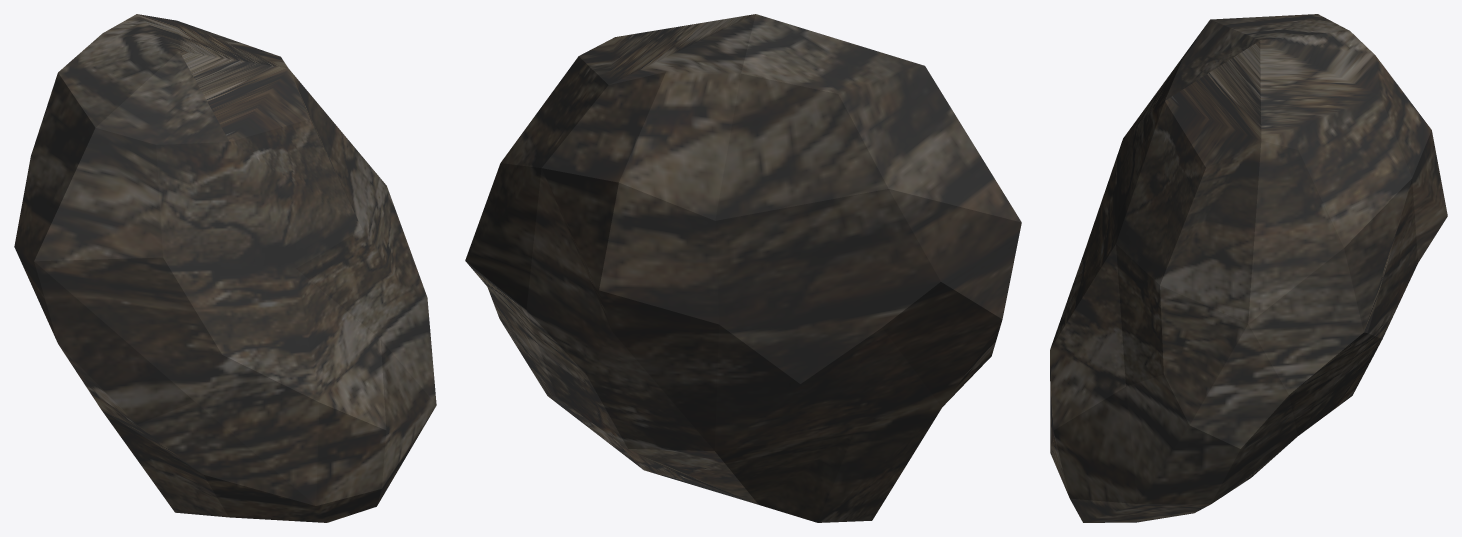
The picture shows the model from 3 angles, left to right: view 1: azimuth 30°, elevation 25°; view 2: azimuth 150°, elevation 25°; view 3: azimuth 270°, elevation 25°; orthographic projection. The views are drawn at different scales.
Visible parts, largest first — view 1: AsteroidC2; view 2: AsteroidC2; view 3: AsteroidC2.
Boxes of the visible parts, x1,y1,x2,y2 form: AsteroidC2: [14, 14, 436, 522]; AsteroidC2: [465, 14, 1021, 522]; AsteroidC2: [1050, 14, 1447, 522].
Bounding box in the file's own units: 1.67 × 1.71 × 1.44.
Materials: 1 (1 with a texture image).
